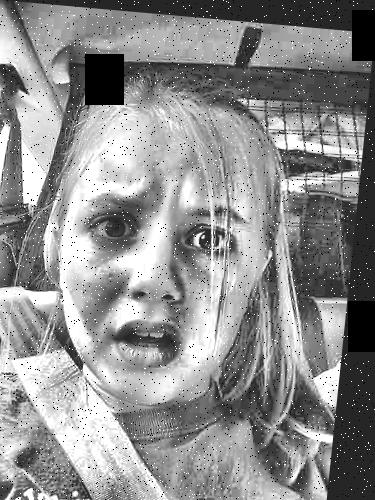seatbelt: (0, 272, 214, 500), (0, 92, 63, 286)
